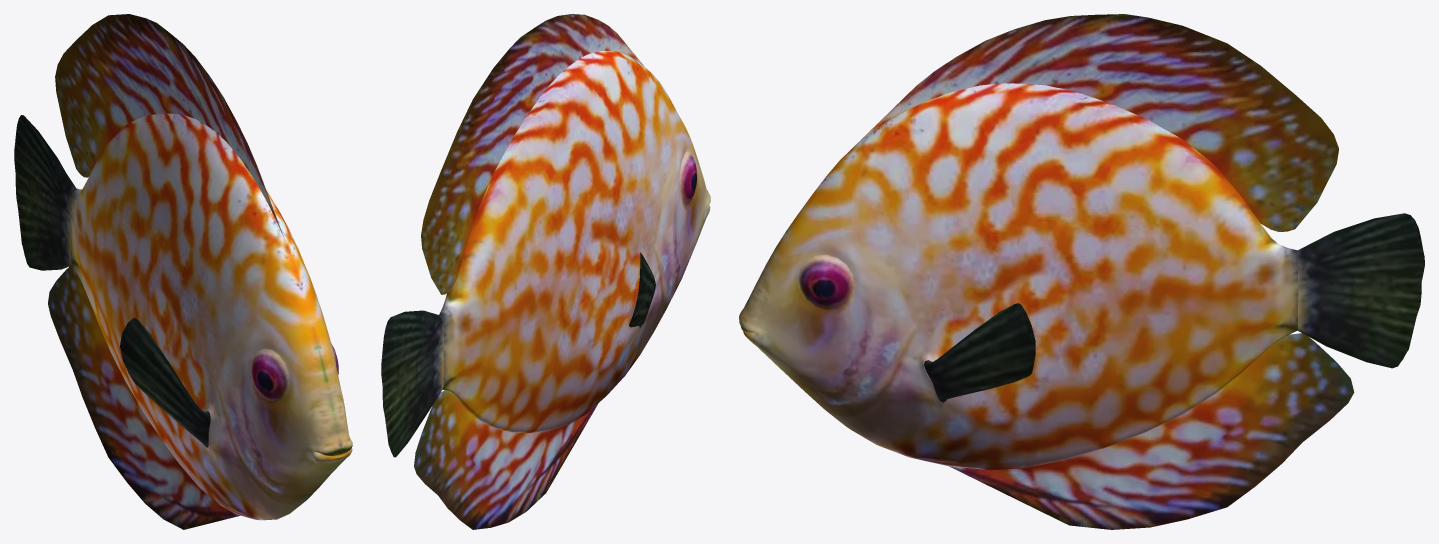
Rendered from fish-3-opt.glb.
3 renders of one model, left to right at view 1: azimuth 30°, elevation 25°; view 2: azimuth 150°, elevation 25°; view 3: azimuth 270°, elevation 25°, orthographic. The views are drawn at different scales.
Visible parts, largest first — view 1: fish_1_fish_1_0; view 2: fish_1_fish_1_0; view 3: fish_1_fish_1_0.
Part boxes in pixels (<box>): fish_1_fish_1_0: <box>14,14,352,529</box>; fish_1_fish_1_0: <box>381,14,710,529</box>; fish_1_fish_1_0: <box>739,14,1424,529</box>.
Bounding box in the file's own units: 1.17 × 3.44 × 4.14.
1 material, 1 textured.
